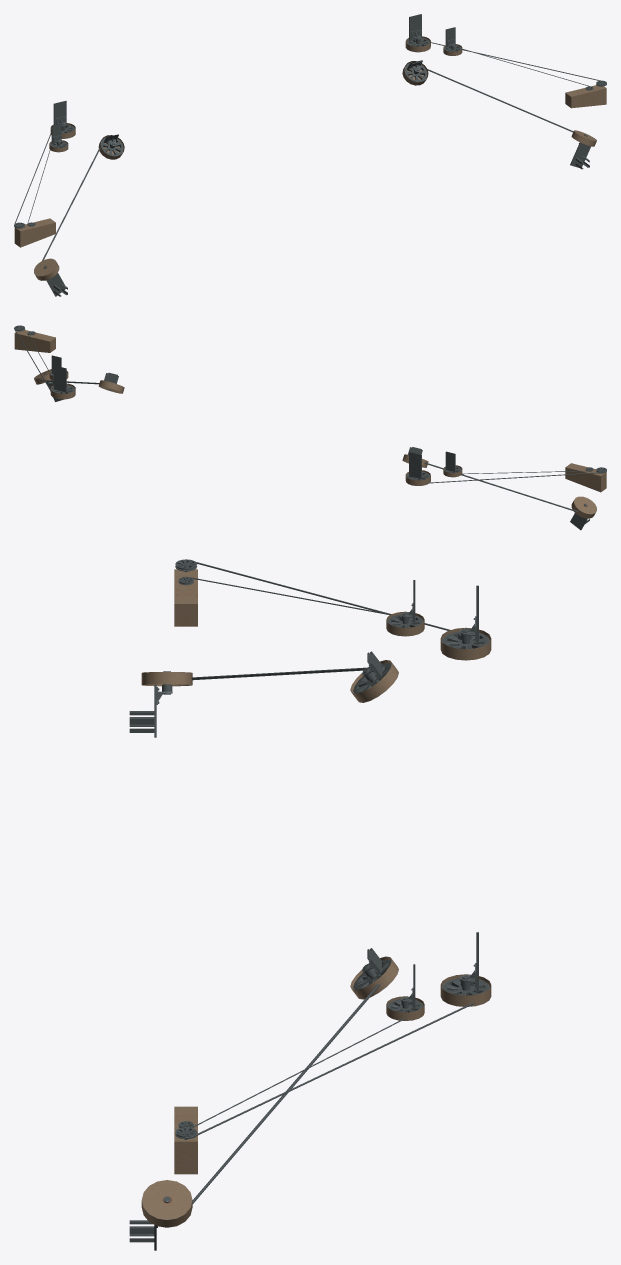
Rendered from Rollers.fbx.
3 views of the same model, one above another, from view 1: azimuth 30°, elevation 25°; view 2: azimuth 150°, elevation 25°; view 3: azimuth 270°, elevation 25° (orthographic). The views are drawn at different scales.
Parts seen in each view (by area): view 1: Cube.007, Roller1.003, Roller1.006, Roller2, Cylinder.065, Roller1, Roller1.002, Roller1.001; view 2: Cube.007, Roller1.003, Roller2, Roller1, Roller1.006, Cylinder.065, Cylinder.154, Roller1.002; view 3: Roller1.003, Cube.007, Roller1.006, Roller1, Roller2, Cylinder.065, Roller1.001, Roller1.002, Cylinder.154.
Boxes of the visible parts, x1,y1,x2,y2 form: Cube.007: [14, 85, 606, 247]; Roller1.003: [34, 130, 596, 296]; Roller1.006: [49, 27, 462, 152]; Roller2: [405, 14, 430, 52]; Cylinder.065: [42, 68, 573, 260]; Roller1: [50, 101, 75, 138]; Roller1.002: [402, 60, 428, 85]; Roller1.001: [98, 134, 124, 159]; Cube.007: [14, 330, 606, 492]; Roller1.003: [34, 369, 596, 530]; Roller2: [50, 365, 75, 399]; Roller1: [405, 452, 430, 485]; Roller1.006: [49, 355, 462, 477]; Cylinder.065: [40, 380, 578, 512]; Cylinder.154: [14, 328, 606, 483]; Roller1.002: [98, 372, 124, 393]; Roller1.003: [129, 671, 192, 1250]; Cube.007: [174, 569, 197, 1174]; Roller1.006: [386, 580, 424, 1020]; Roller1: [440, 585, 491, 660]; Roller2: [440, 932, 491, 1006]; Cylinder.065: [192, 667, 386, 1204]; Roller1.001: [350, 651, 398, 702]; Roller1.002: [350, 948, 398, 999]; Cylinder.154: [185, 562, 474, 1138].
Size of the model in its own units: 1547 by 286 by 409.
1 material, 1 textured.
